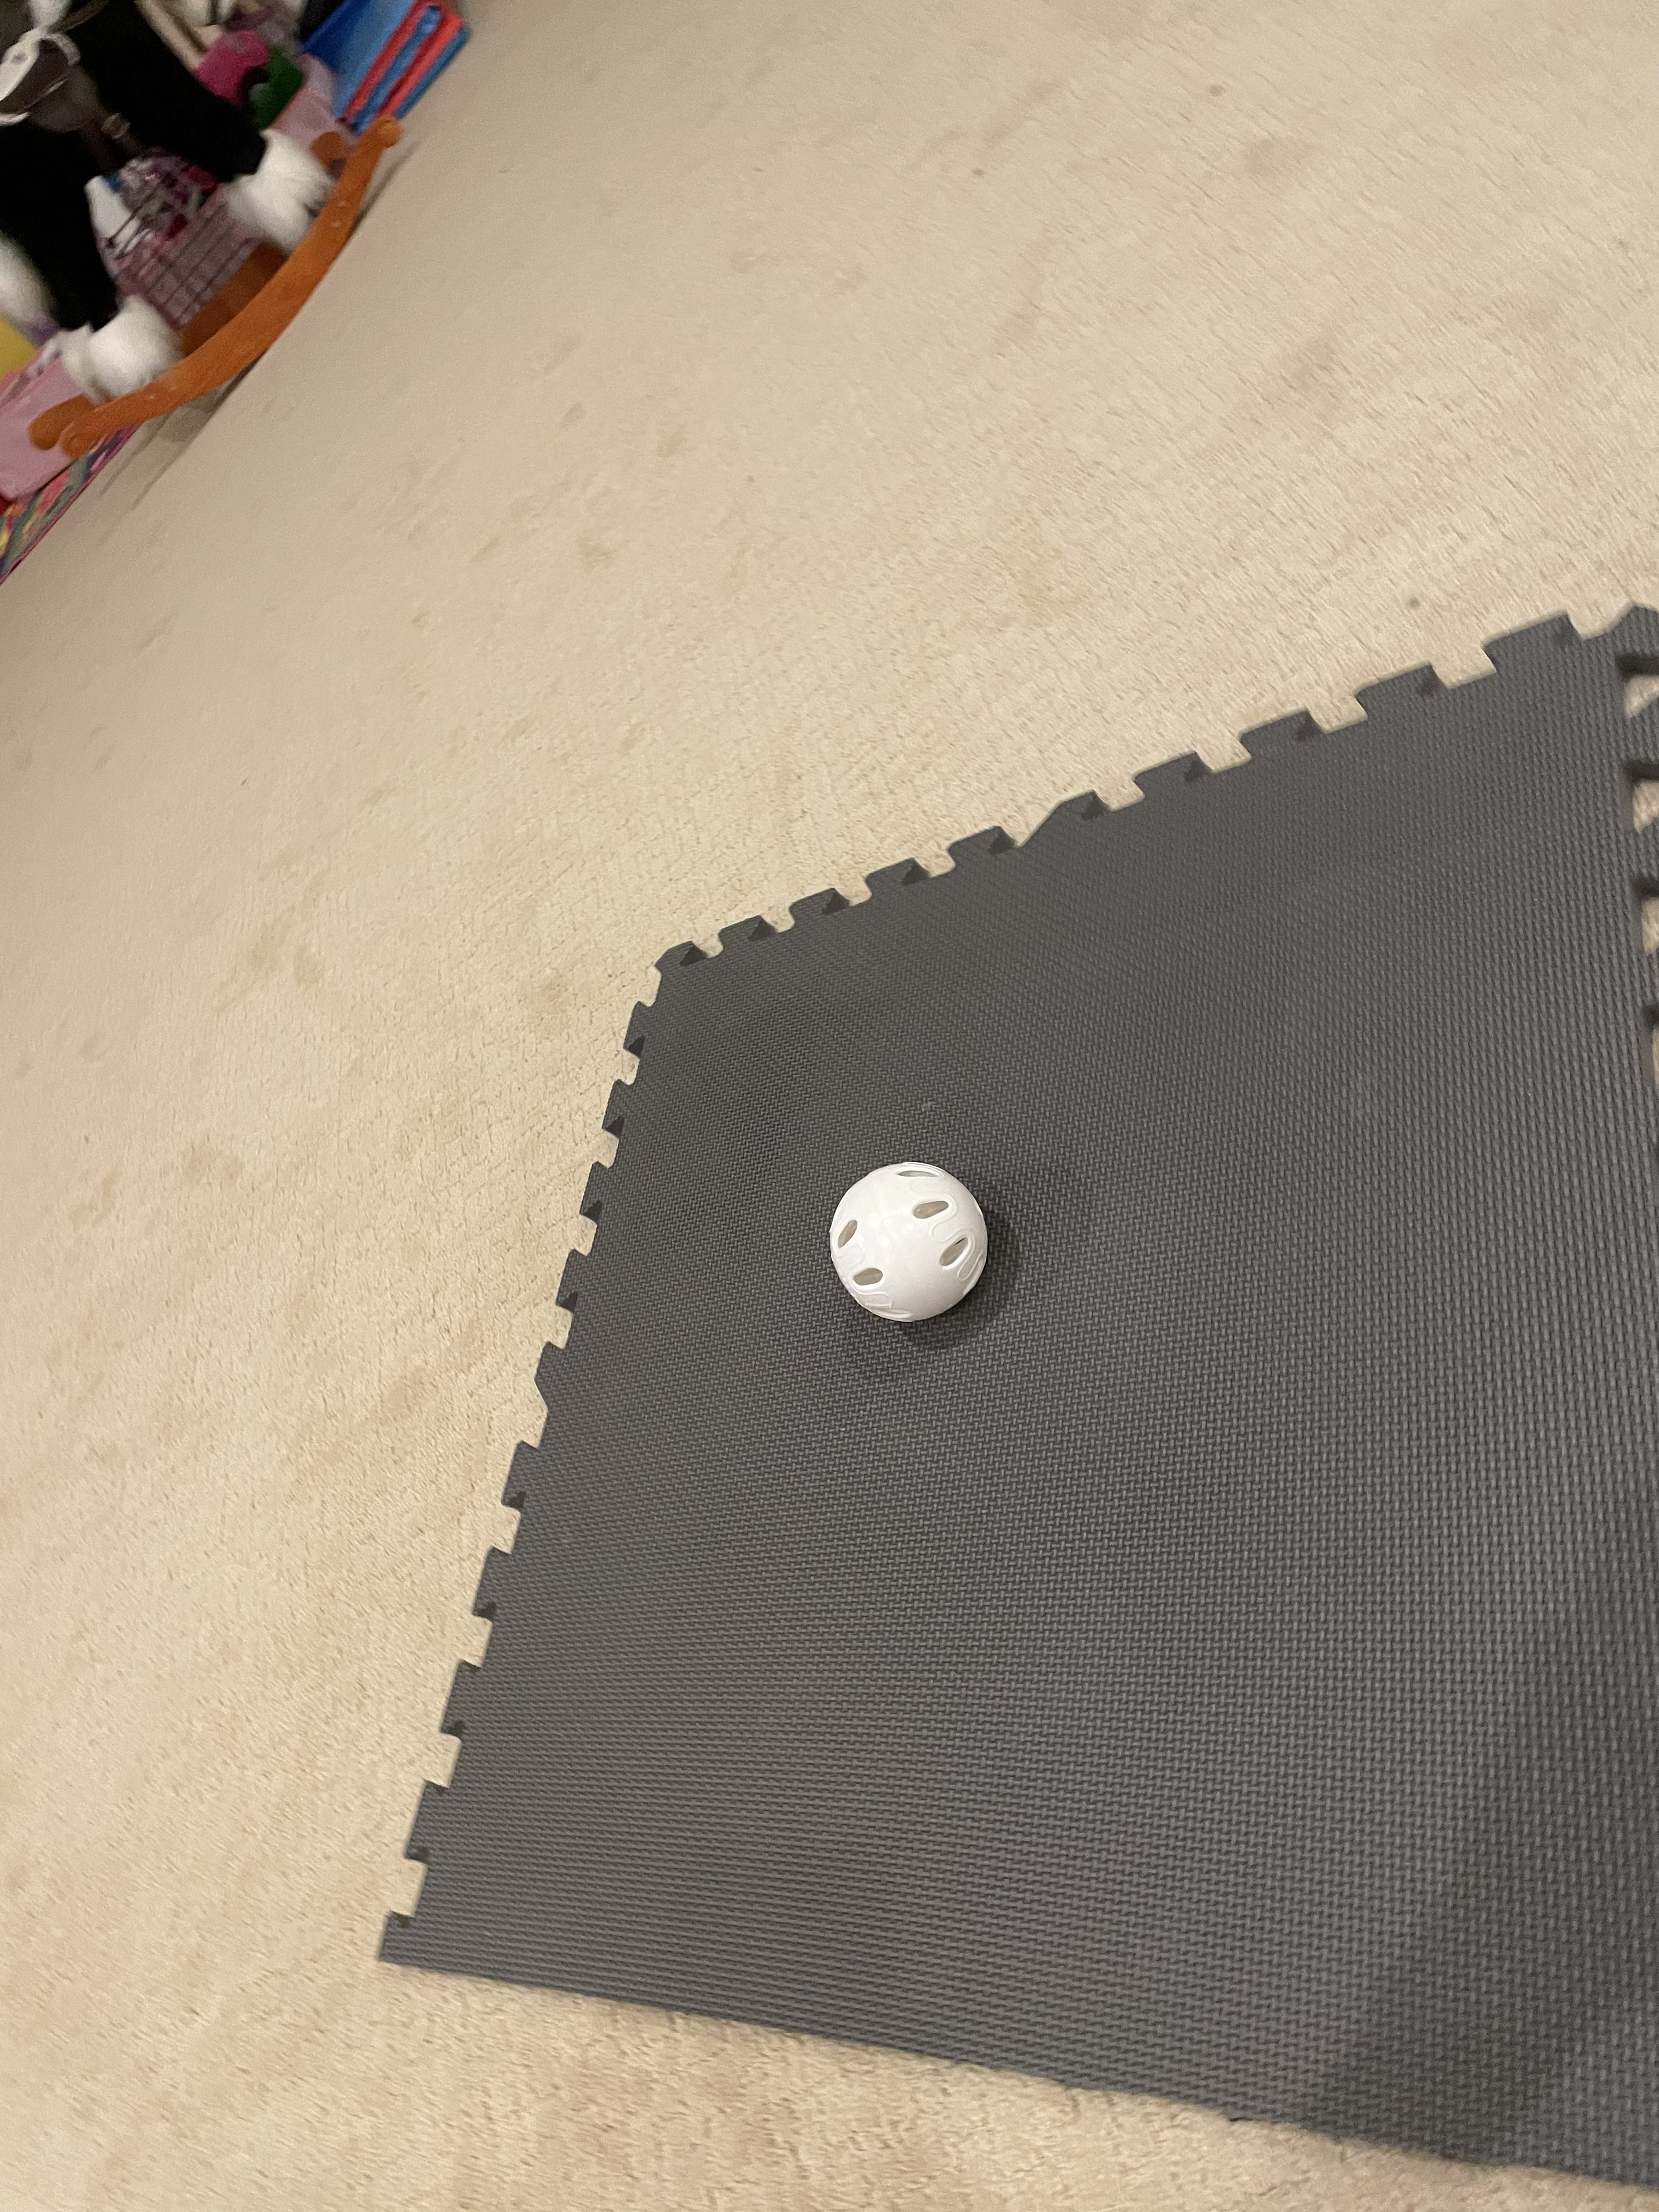ball: (802, 1134, 1007, 1339)
